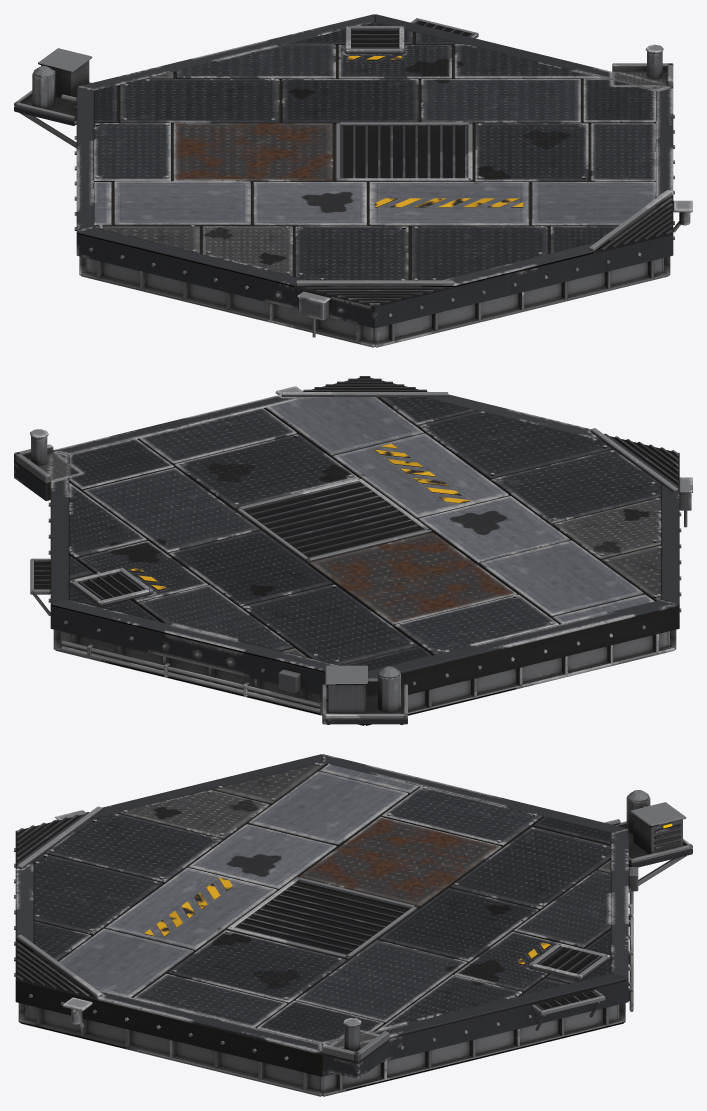
File: nodexeus-set-deck-c.glb
The picture shows the model from 3 angles, top to bottom: view 1: azimuth 30°, elevation 25°; view 2: azimuth 150°, elevation 25°; view 3: azimuth 270°, elevation 25°; orthographic projection. The views are drawn at different scales.
Visible parts, largest first — view 1: set-deck-c; view 2: set-deck-c; view 3: set-deck-c.
Boxes of the visible parts, left/top/right/bottom form: set-deck-c: left=14, top=14, right=692, bottom=347; set-deck-c: left=14, top=376, right=692, bottom=725; set-deck-c: left=14, top=754, right=692, bottom=1096.
Bounding box in the file's own units: 12.23 × 1.42 × 11.4.
1 material, 1 textured.
